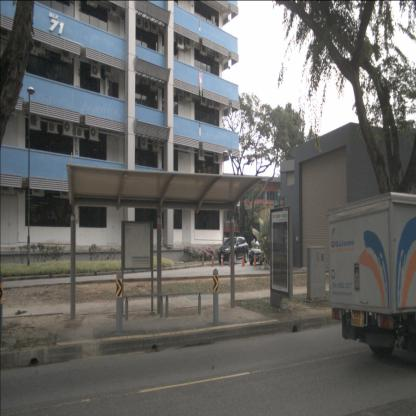cone: (253, 252, 258, 268), (241, 252, 246, 267), (201, 252, 205, 267), (228, 253, 232, 267), (220, 253, 224, 267), (211, 254, 215, 266)
